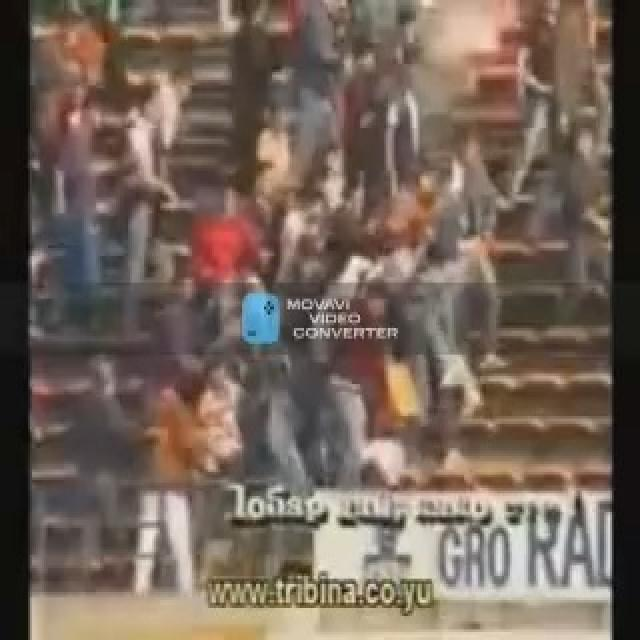non-voilence: (30, 0, 612, 621), (238, 290, 280, 346)
